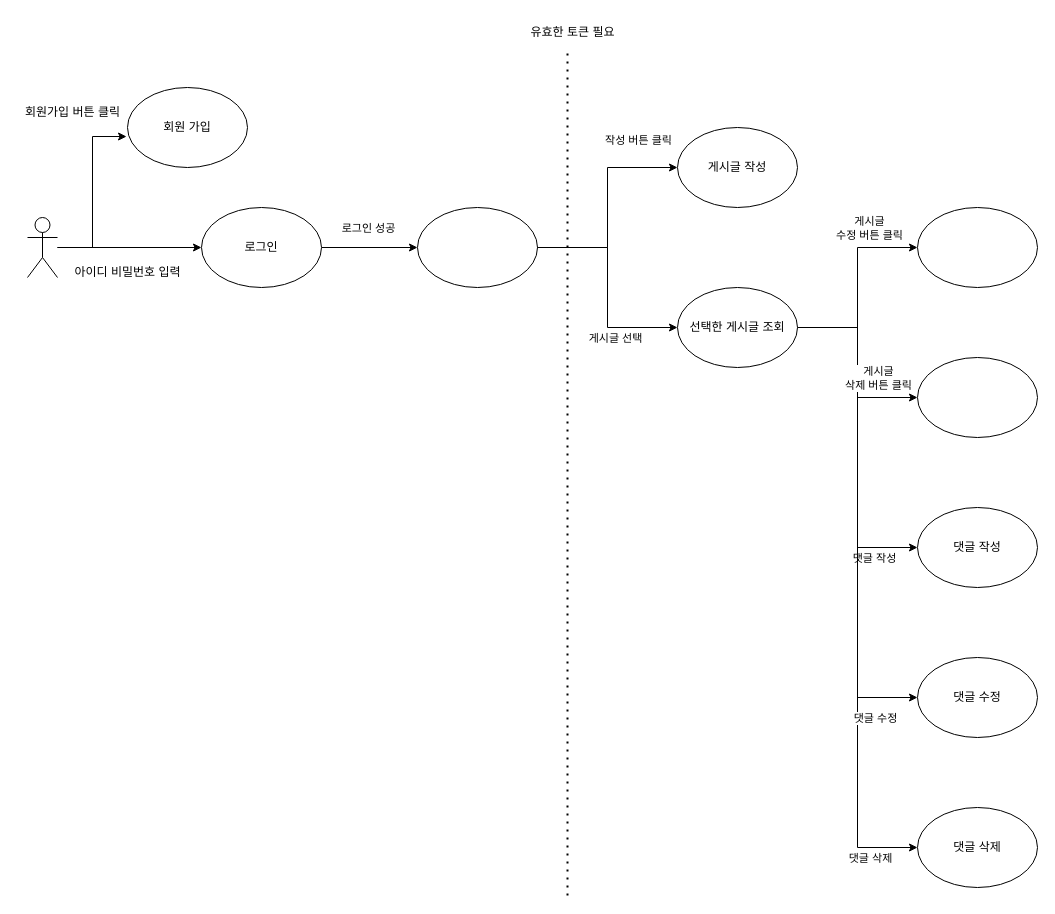
Some shapes in this 1055 by 914 pixel diagram are drawn without their labels. Here are the shapes that lost their labels. From the top down, the centre of each, then its label:
pixel 42 247: Actor
pixel 477 247: 게시글 조회
pixel 977 247: 선택한 게시글 수정
pixel 977 397: 선택한 게시글 삭제
